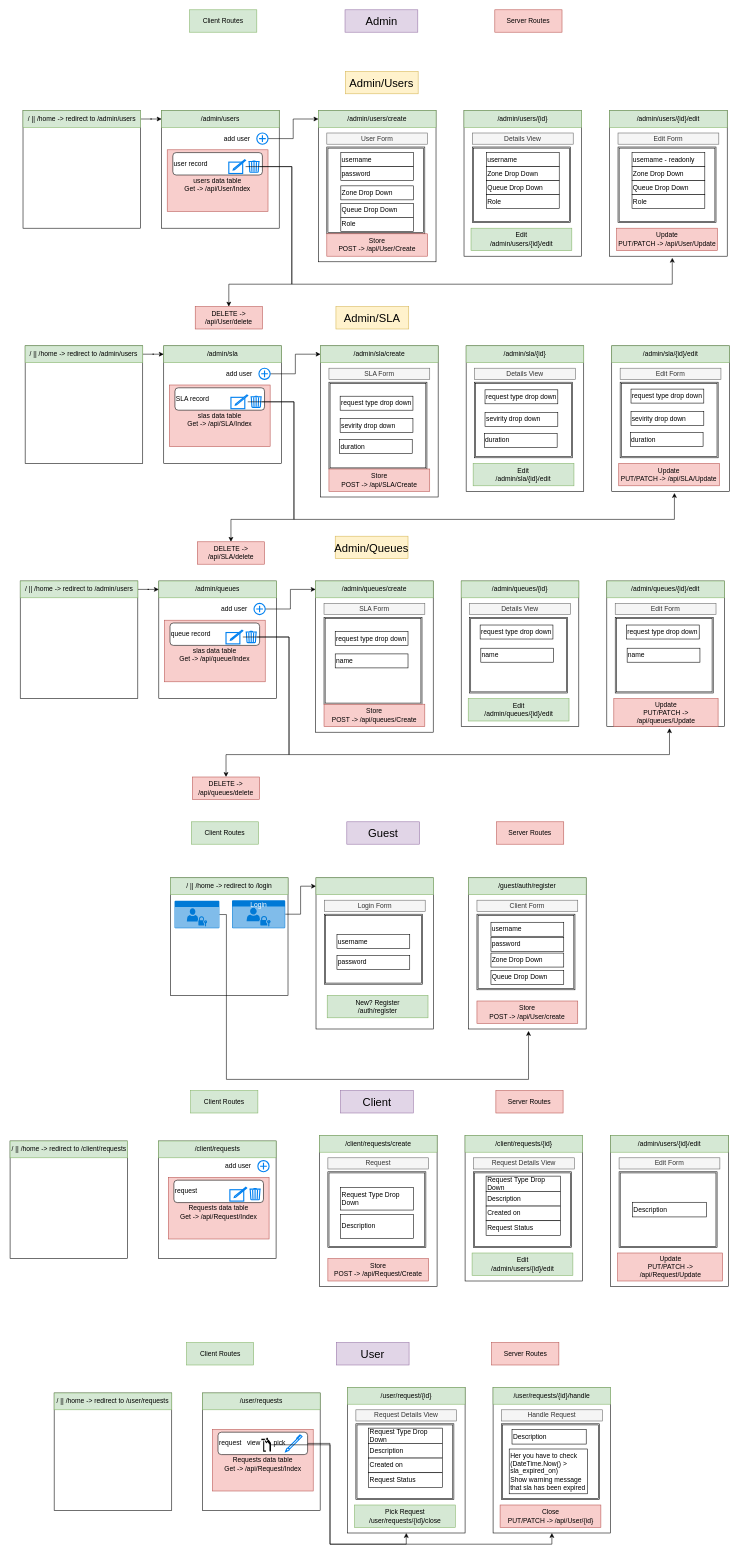
Image size: 739x1558. Some labels were removed from this diagram. The shapes that lost their labels are listed below. From the top down, each one's centre as x and y in pixels, then its label:
the point at 374,886: /guest/auth/login
the point at 196,914: Register
